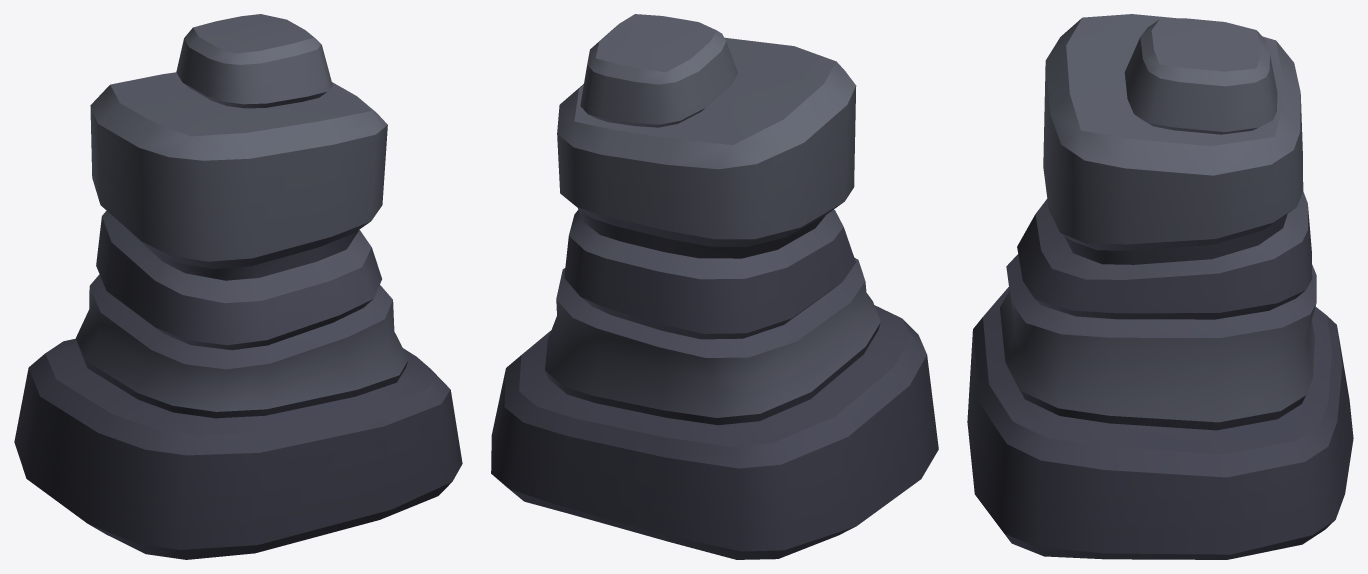
File: rock_big_B_gray_1.glb
The picture shows the model from 3 angles, left to right: view 1: azimuth 30°, elevation 25°; view 2: azimuth 150°, elevation 25°; view 3: azimuth 270°, elevation 25°; orthographic projection. The views are drawn at different scales.
Parts seen in each view (by area): view 1: rock_big_B_gray_1; view 2: rock_big_B_gray_1; view 3: rock_big_B_gray_1.
Boxes of the visible parts, x1=… form: rock_big_B_gray_1: x1=14, y1=14, x2=462, y2=559; rock_big_B_gray_1: x1=491, y1=14, x2=938, y2=559; rock_big_B_gray_1: x1=967, y1=14, x2=1353, y2=559.
Size of the model in its own units: 4.45 by 5.09 by 3.91.
Materials: 1 (1 with a texture image).
